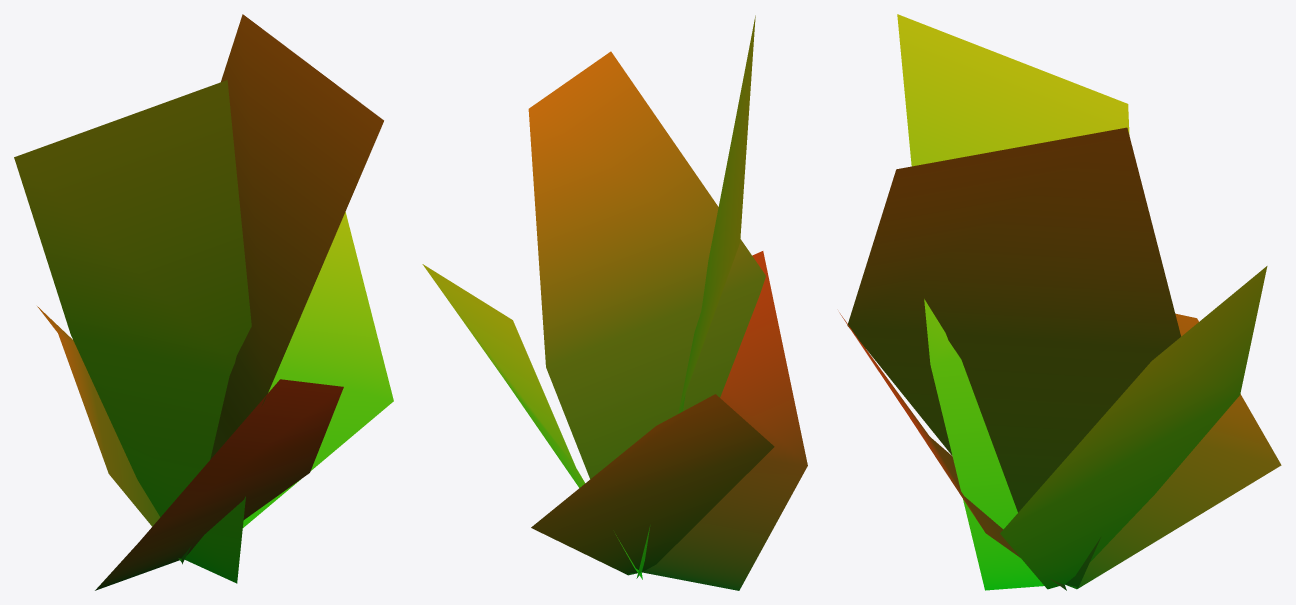
Rendered from Ocean Seaweed_LOD1_Var1_sdDgS.fbx.
3 views of the same model, side by side, from view 1: azimuth 30°, elevation 25°; view 2: azimuth 150°, elevation 25°; view 3: azimuth 270°, elevation 25° (orthographic). The views are drawn at different scales.
Parts seen in each view (by area): view 1: merge1; view 2: merge1; view 3: merge1.
Boxes of the visible parts, box(x1,y1,x2,y2) form: merge1: box(14, 14, 393, 590); merge1: box(422, 15, 807, 590); merge1: box(839, 14, 1281, 590).
Size of the model in its own units: 30.3 by 48.32 by 35.21.
